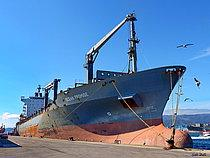Ship: (12, 6, 198, 154)
